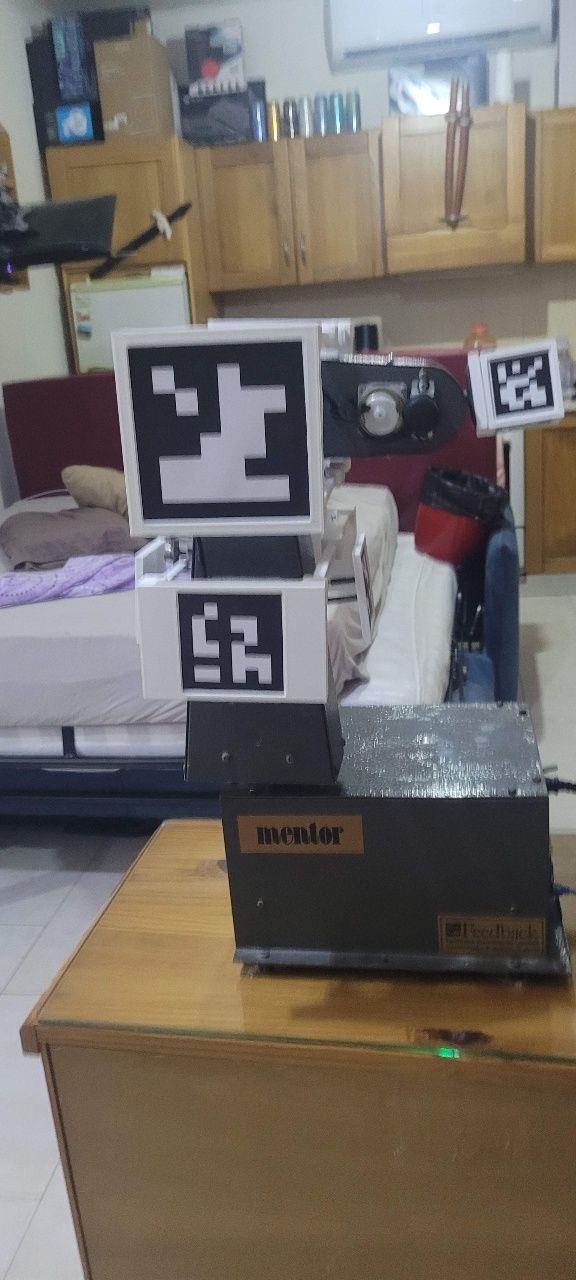Robot: (106, 316, 568, 794)
